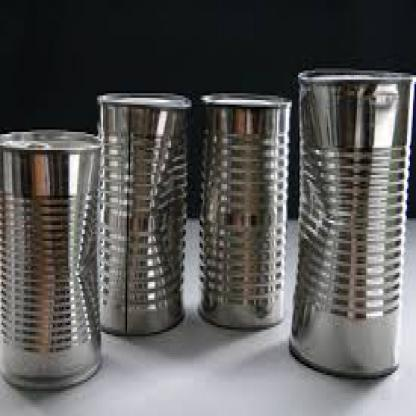METAL: (288, 68, 414, 378), (0, 127, 102, 389), (95, 94, 189, 336), (198, 94, 291, 328)
